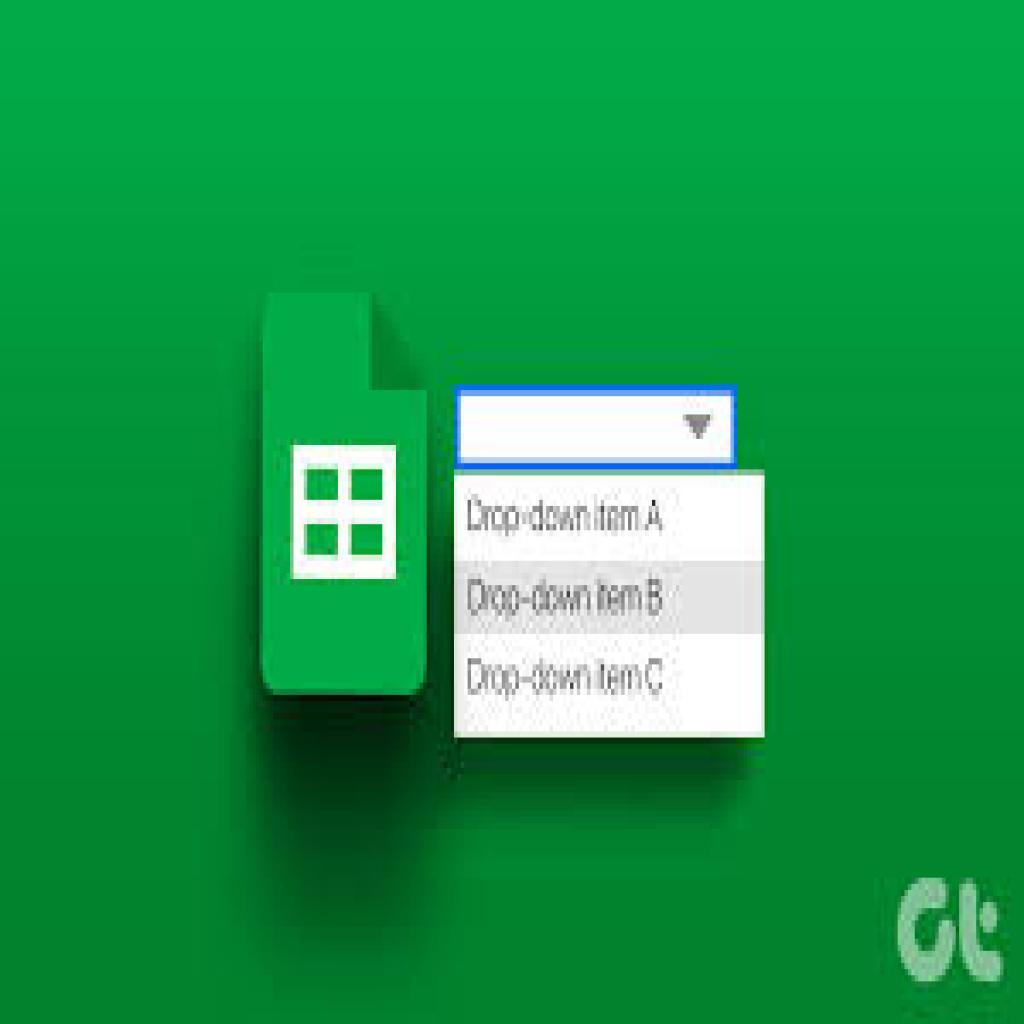button: (457, 562, 764, 634)
dropdown: (456, 392, 735, 472)
